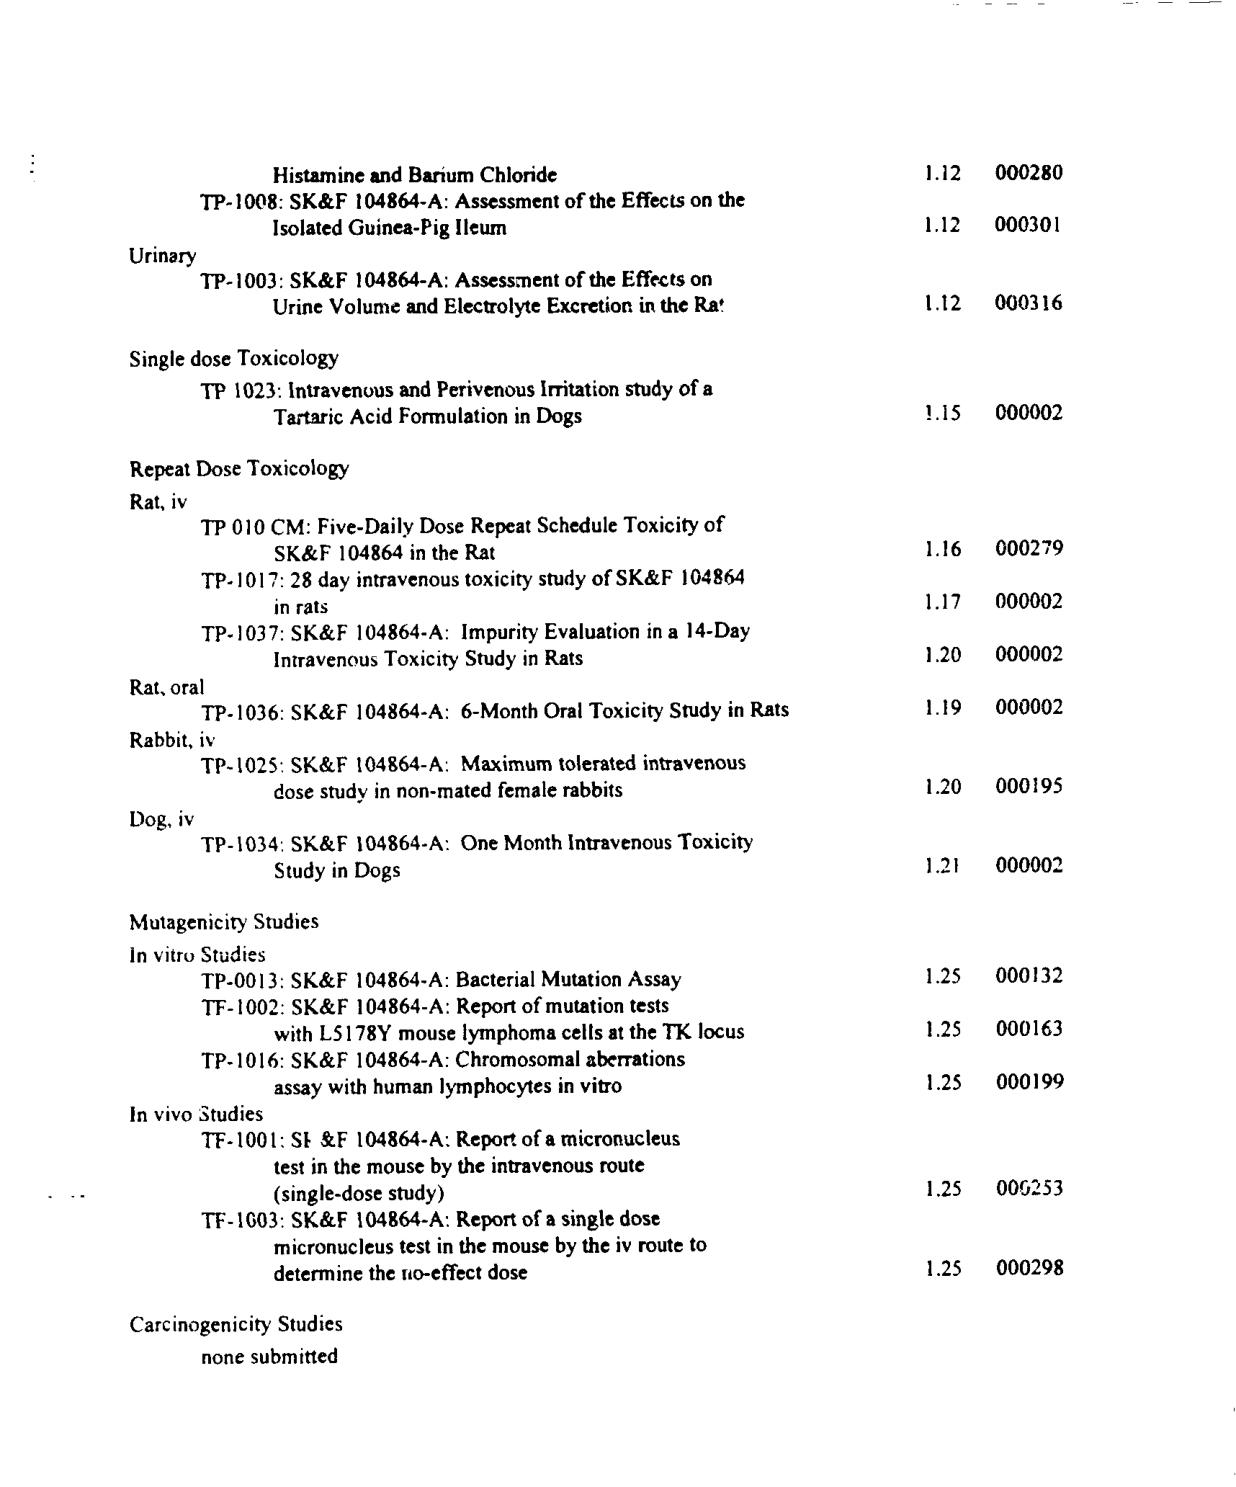nolines: (117, 154, 1073, 1289)
